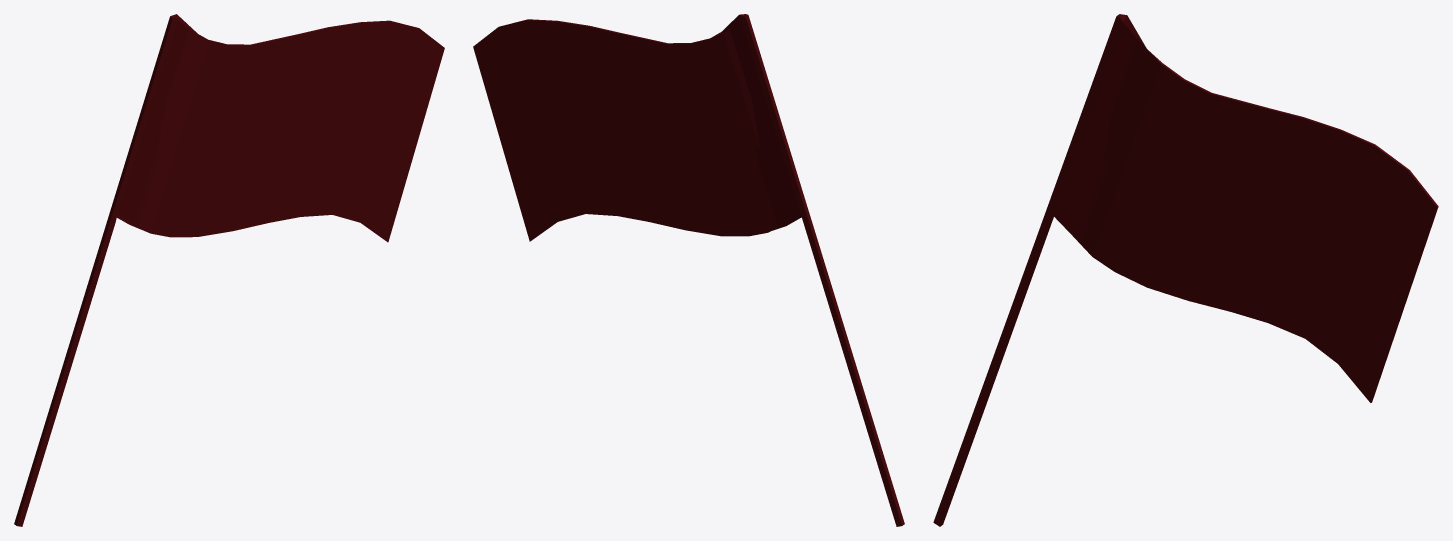
The model's file is WiningFlag.obj.
3 views of the same model, side by side, from view 1: azimuth 30°, elevation 25°; view 2: azimuth 150°, elevation 25°; view 3: azimuth 330°, elevation 25° (orthographic). The views are drawn at different scales.
Visible parts, largest first — view 1: Cube; view 2: Cube; view 3: Cube.
Part boxes in pixels (<box>): Cube: <box>14,14,444,526</box>; Cube: <box>473,14,904,526</box>; Cube: <box>933,14,1438,526</box>.
Size of the model in its own units: 2.55 by 2.69 by 0.0288.
